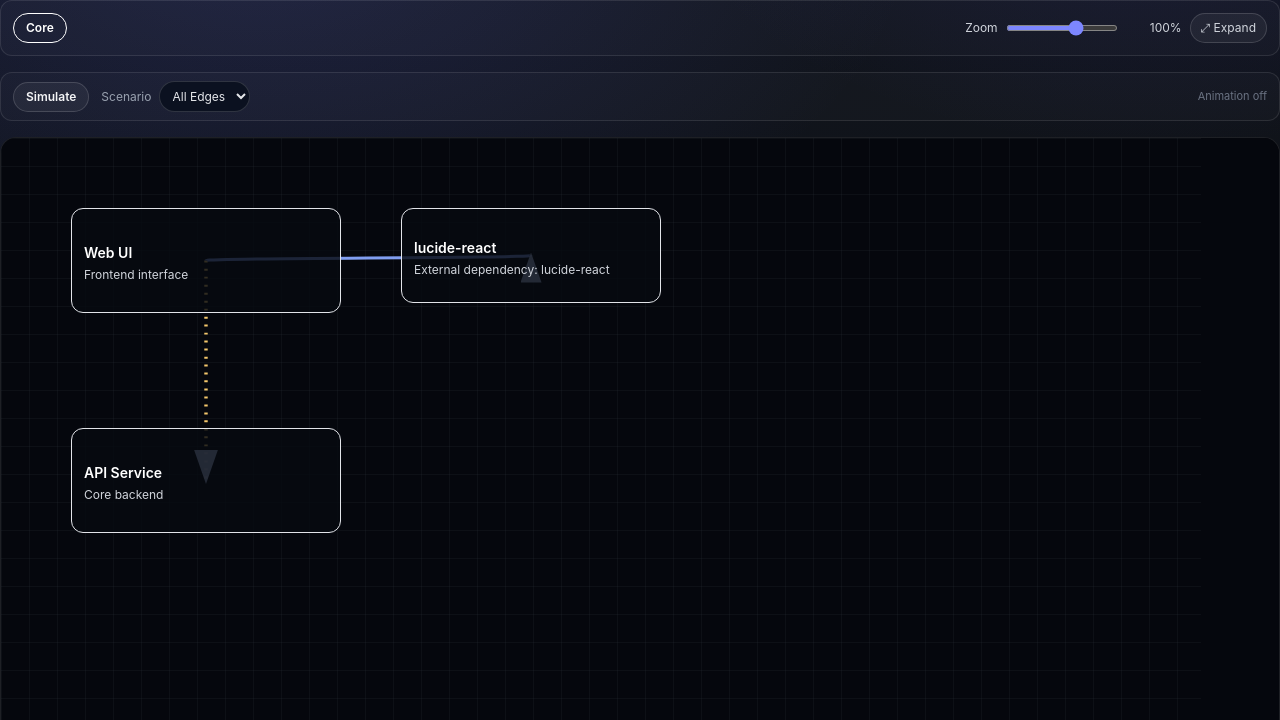
ArchitectureDiagram › renders key nodes and opens floating detail popup on click
Expected: the button "Web UI Frontend interface" is shown, [71, 208, 341, 313]
Click the button "API Service Core backend".
click(123, 472)  # box [71, 428, 341, 533]
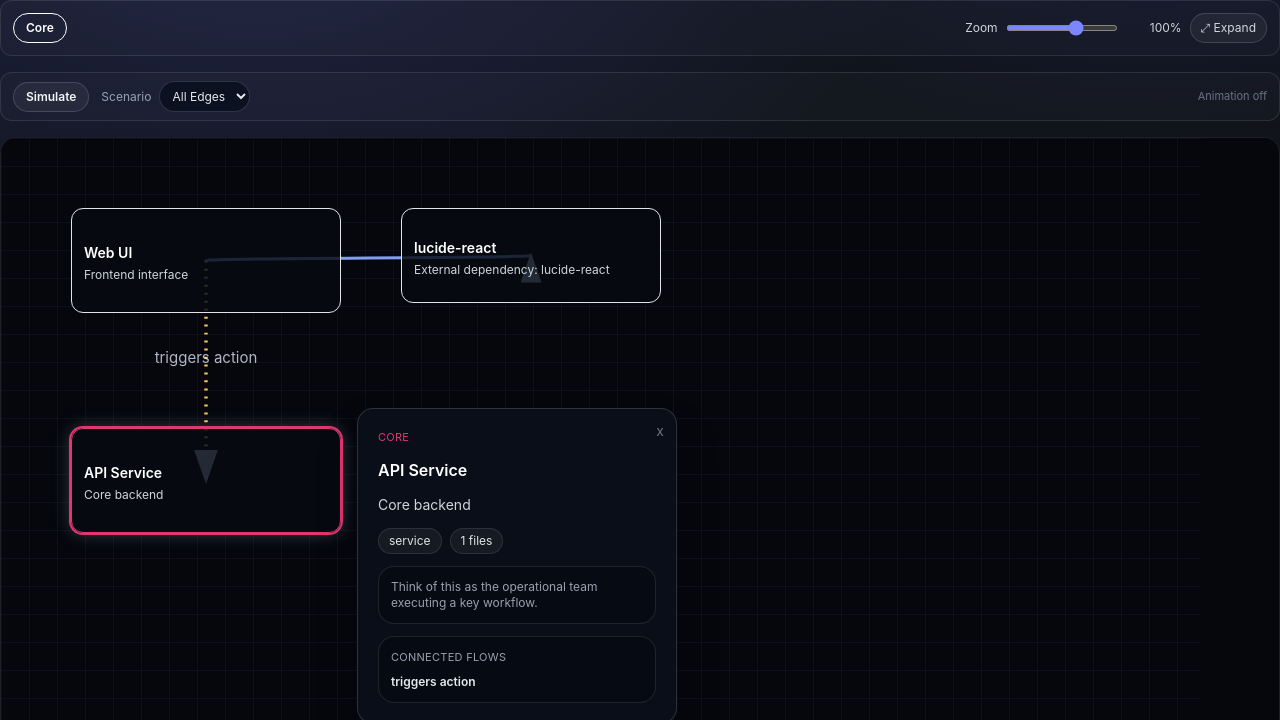
Expected: the 1st text "API Service" is shown, [84, 464, 162, 480]
Expected: the text "Think of this as the" is shown, [391, 579, 502, 594]
Expected: the button named "Close details" is shown, [656, 421, 664, 441]
